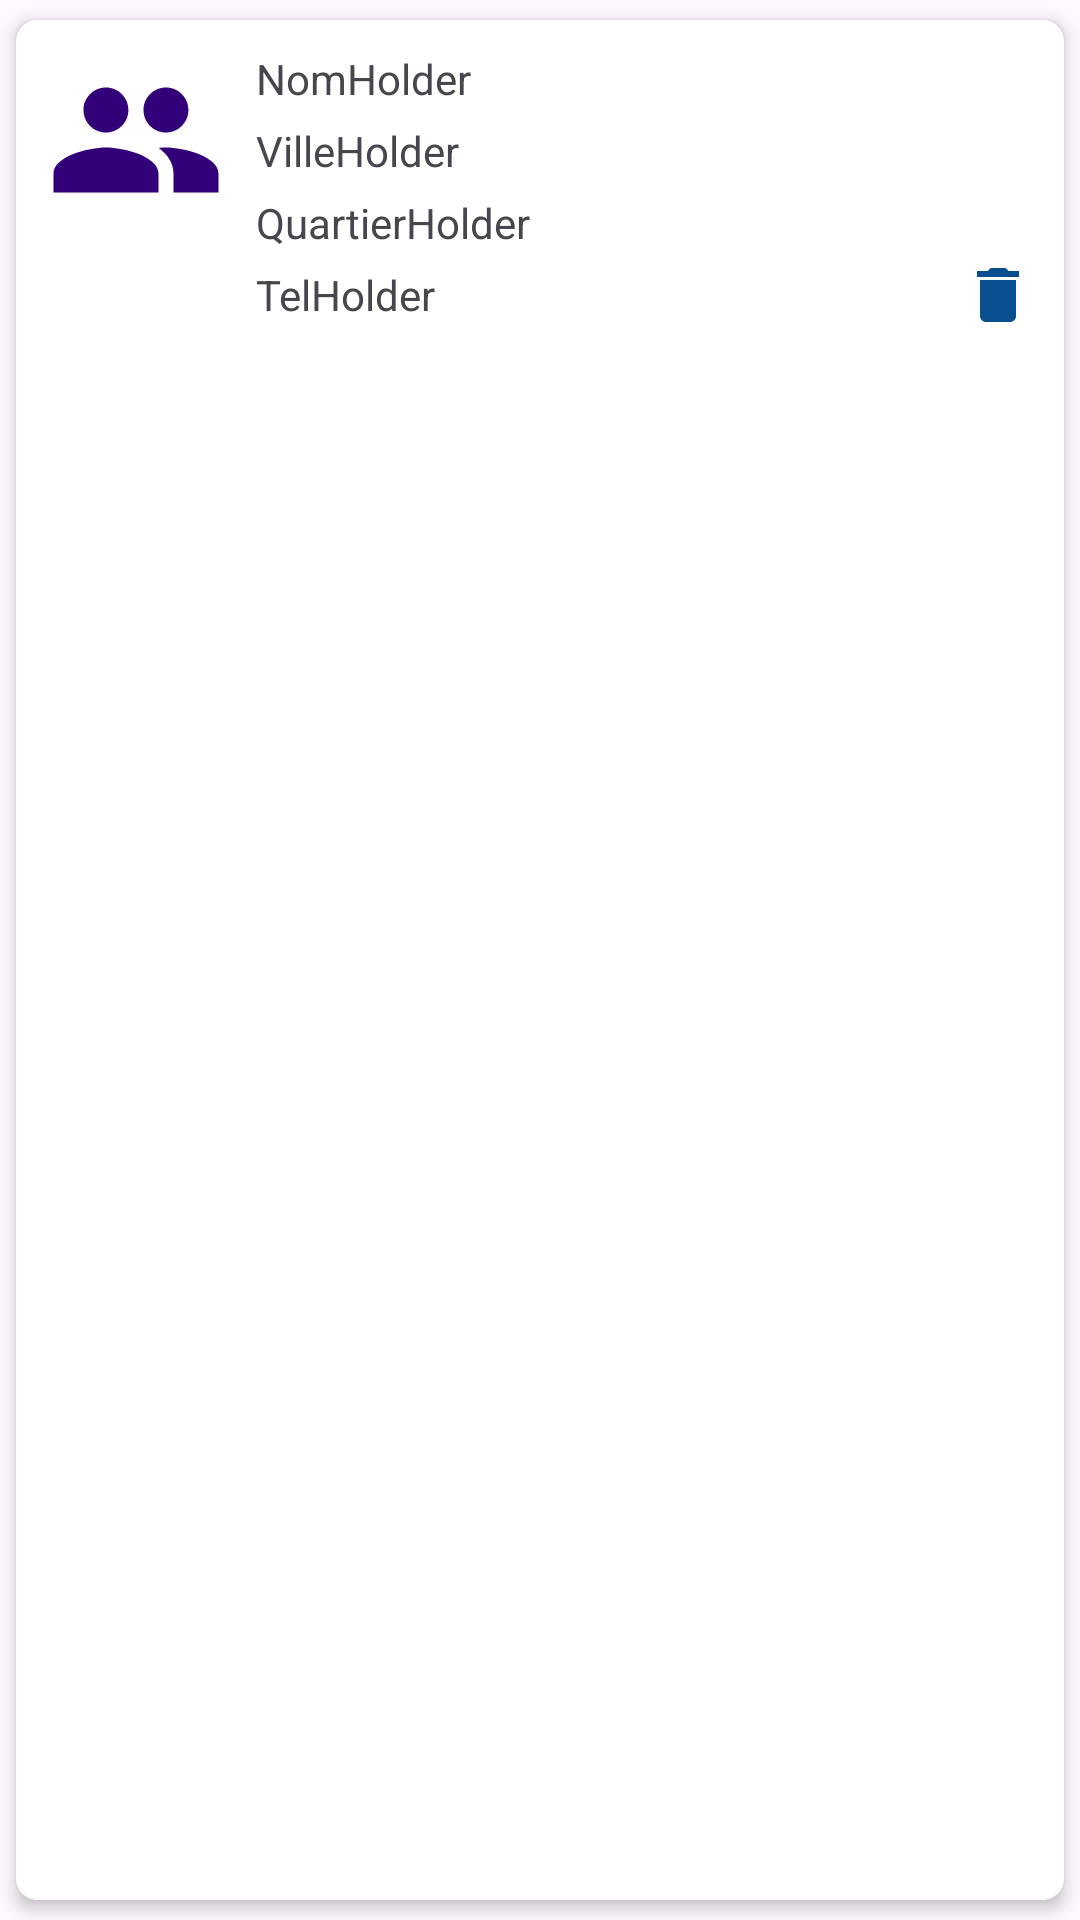

Icons on this 1080×1920 Android screen, each with the point to tap as (x,y):
people: (136,140)
